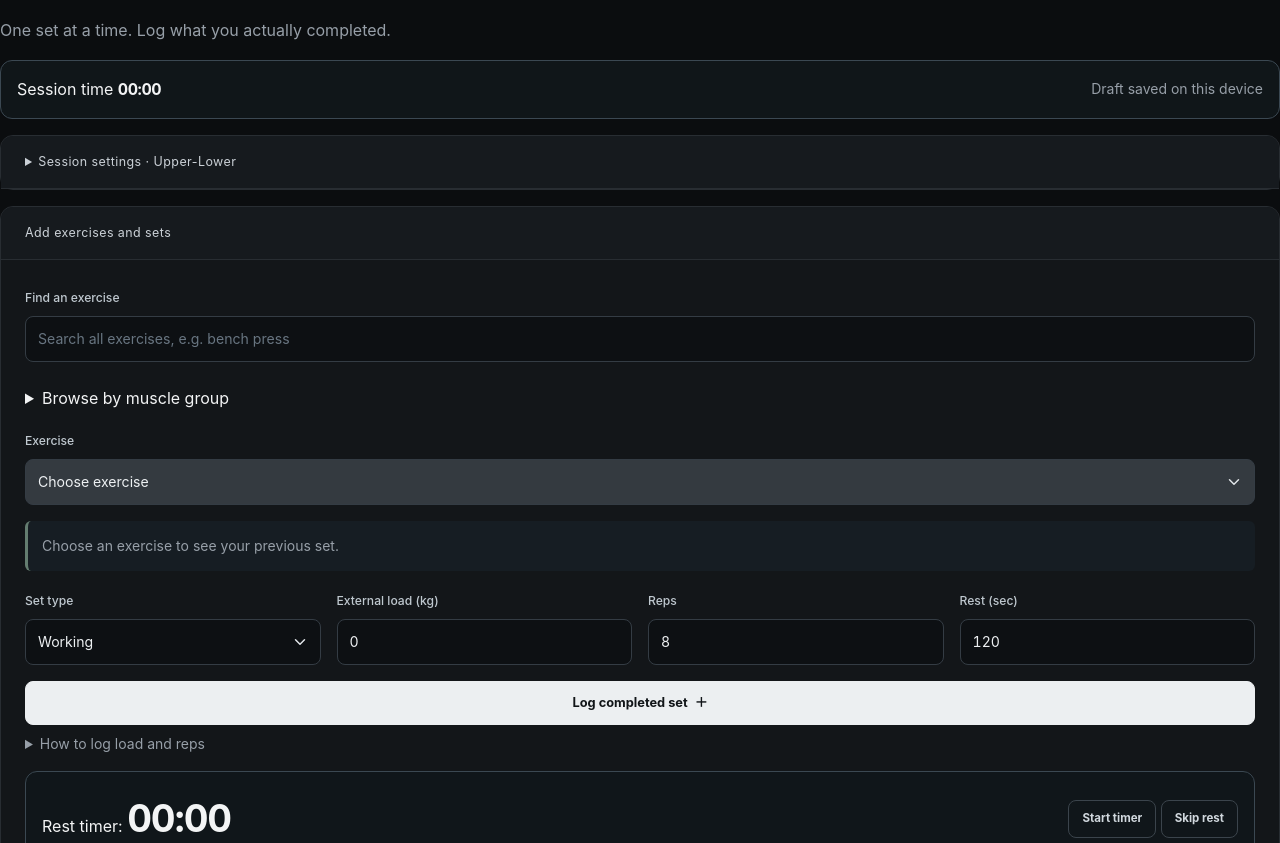
workout logger › logs a set, keeps it on the device and starts the rest timer
This screenshot has width=1280, height=843.
Step 1. Type "bench" into the search field labelled "Find an exercise" → (640, 339), box [25,316,1255,362]
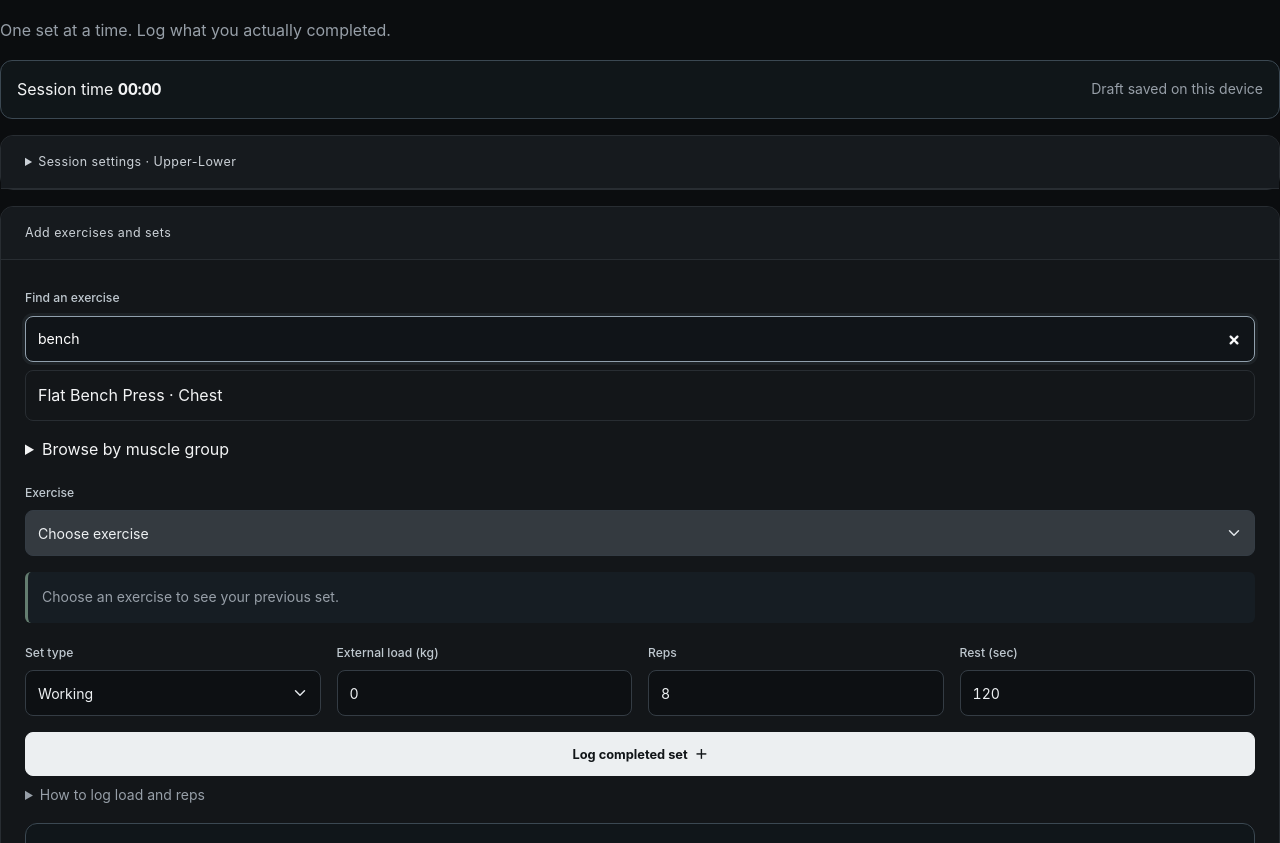
Step 2. Click the button "Flat Bench Press · Chest" → (101, 395), box [25,370,1255,421]
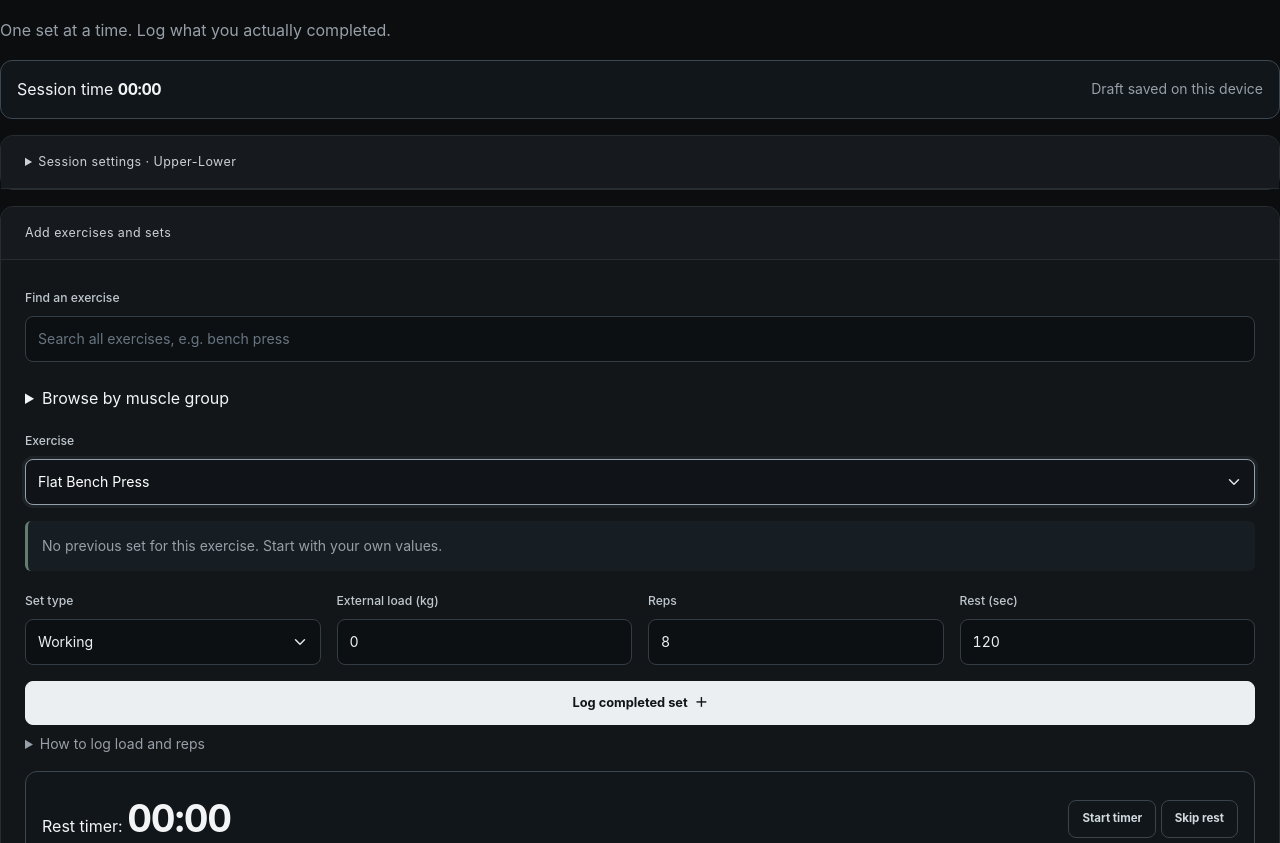
Now the text "No previous set for this exercise. Start with your own values." is shown, box [42,535,442,557]
Step 3. Replace the text in the number field labelled "External load (kg)" with "80" → (484, 642), box [336,619,632,665]
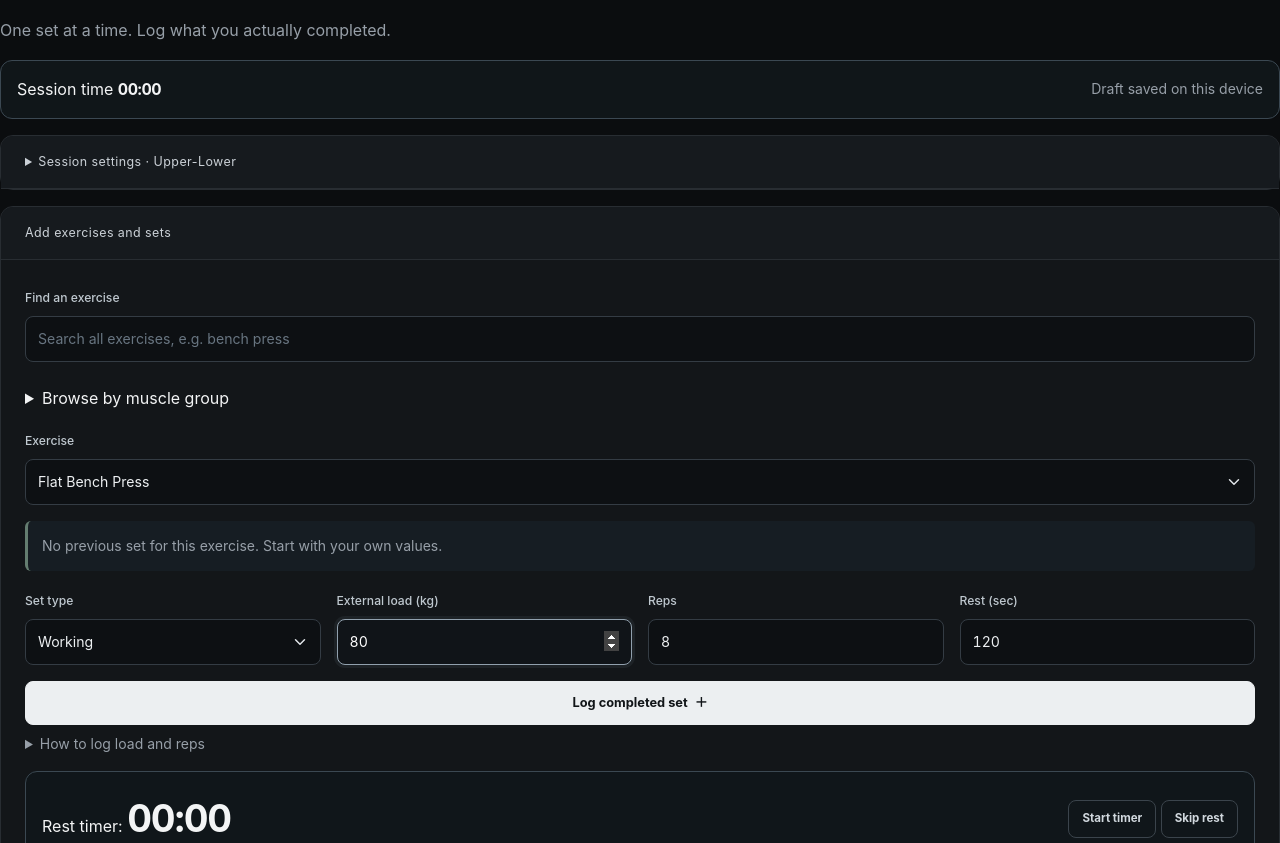
Step 4. Click the button "Log completed set ＋" → (640, 703), box [25,681,1255,725]
(page scrolled)
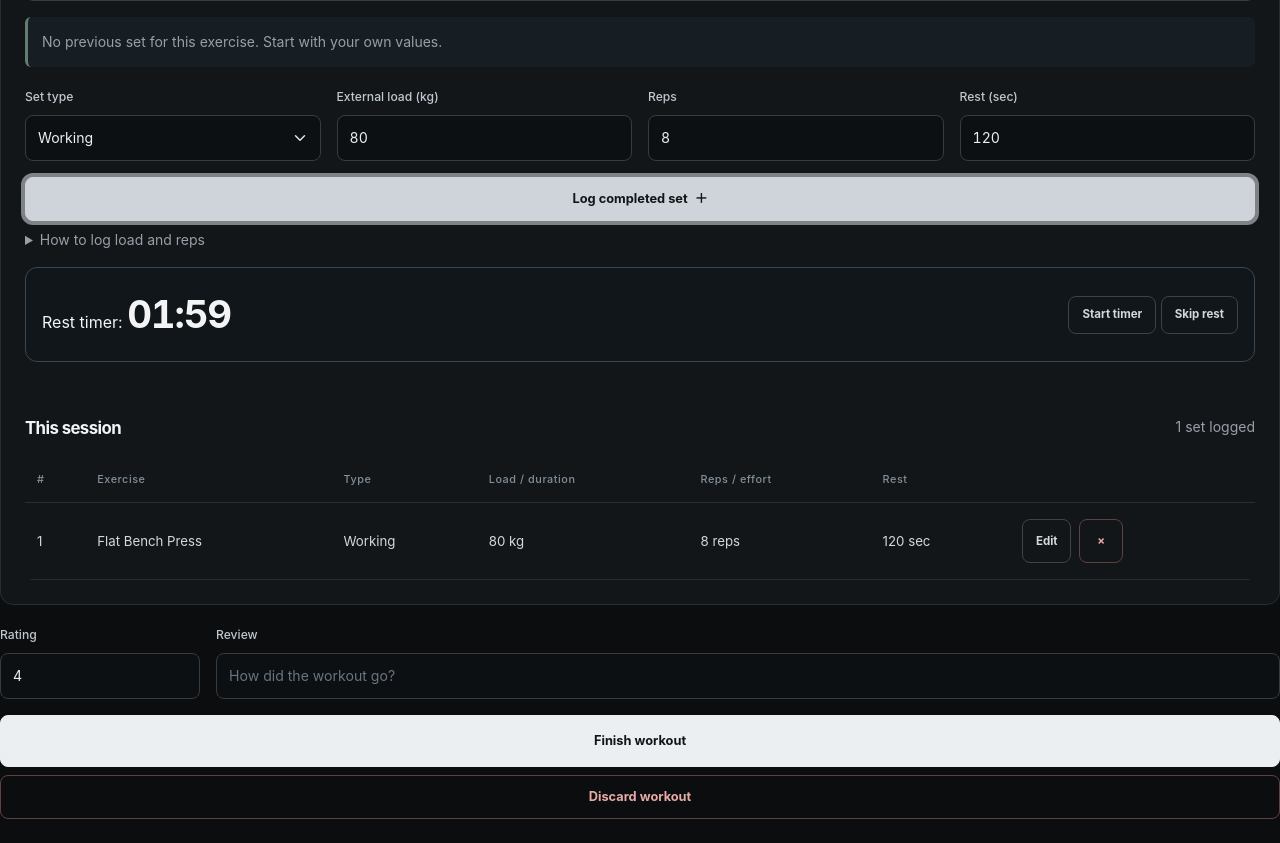
Now the text "1 set logged" is shown, box [1176,416,1255,439]
Now the text "Rest timer: 01:59" is shown, box [42,284,231,345]
